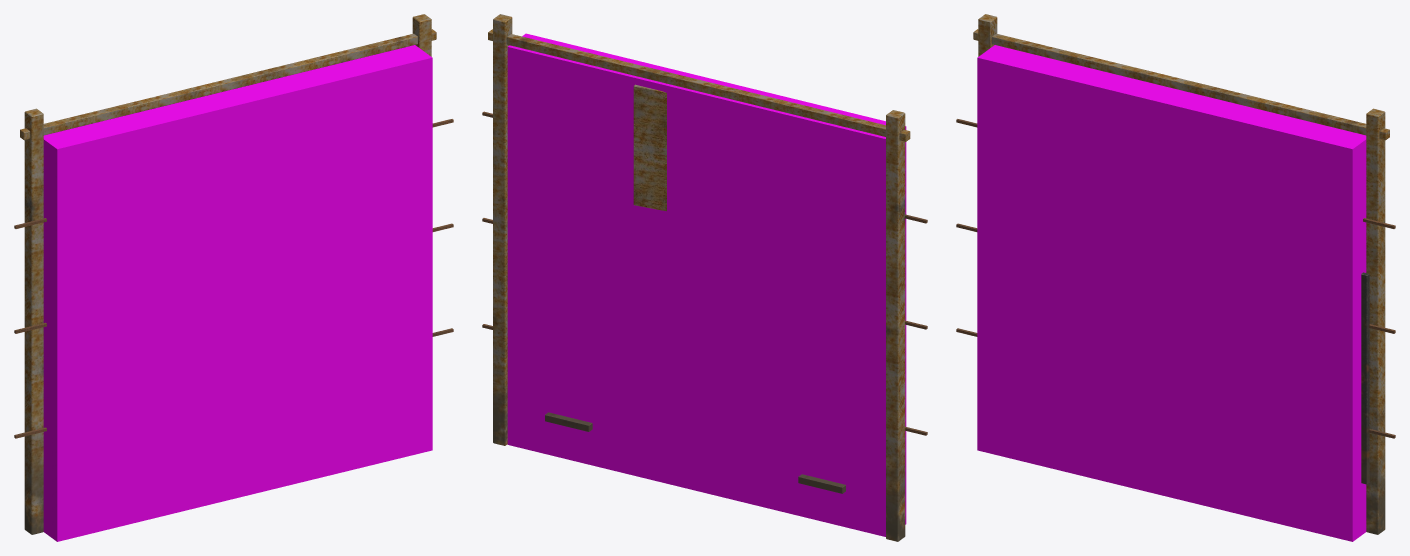
Rendered from prop_door_fence_patch.glb.
The picture shows the model from 3 angles, left to right: view 1: azimuth 30°, elevation 25°; view 2: azimuth 150°, elevation 25°; view 3: azimuth 330°, elevation 25°; orthographic projection.
Parts seen in each view (by area): view 1: prop_door_fence_patch-col, Frame; view 2: prop_door_fence_patch-col, Frame, Panel; view 3: prop_door_fence_patch-col, Frame, Panel.
Part boxes in pixels (x1,y1,x2,y2): prop_door_fence_patch-col: (43,45,432,541); Frame: (14,14,453,534); prop_door_fence_patch-col: (507,33,906,536); Frame: (482,14,927,541); Panel: (633,84,666,211); prop_door_fence_patch-col: (977,45,1366,541); Frame: (956,14,1395,534); Panel: (1361,272,1369,484).
Size of the model in its own units: 3.5 by 3.2 by 0.3065.
3 materials, 2 textured.
